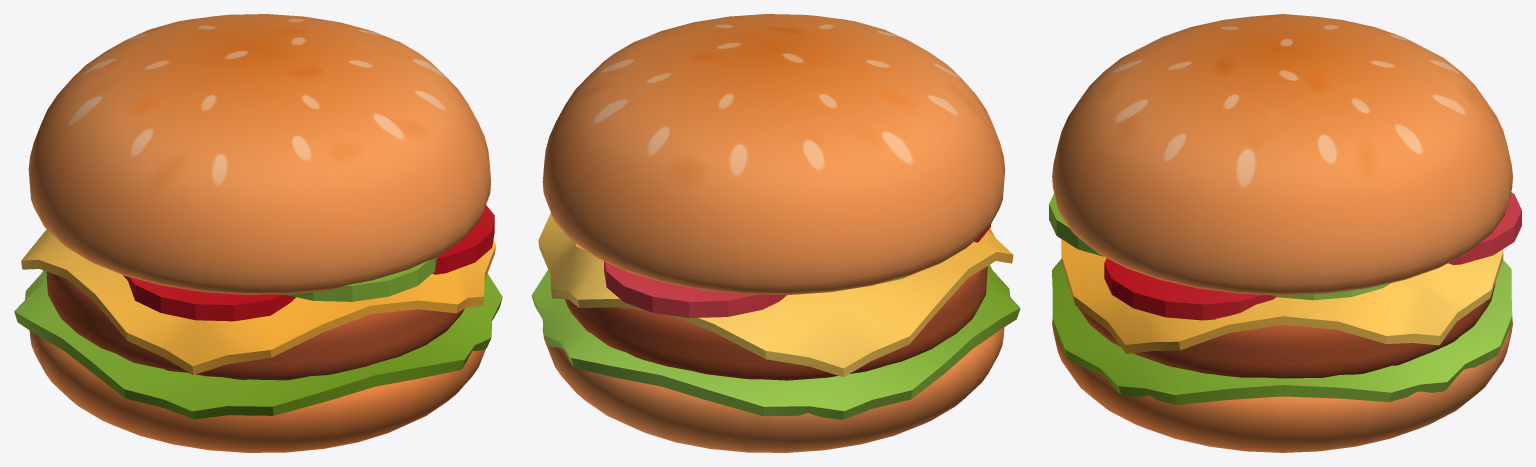
The model's file is Hamburger.fbx.
3 renders of one model, left to right at view 1: azimuth 30°, elevation 25°; view 2: azimuth 150°, elevation 25°; view 3: azimuth 270°, elevation 25°, orthographic.
Parts seen in each view (by area): view 1: Hamburger; view 2: Hamburger; view 3: Hamburger.
Part boxes in pixels (<box>): Hamburger: <box>14,14,502,452</box>; Hamburger: <box>531,14,1020,452</box>; Hamburger: <box>1049,14,1521,452</box>.
Bounding box in the file's own units: 16.46 × 12.98 × 16.89.
